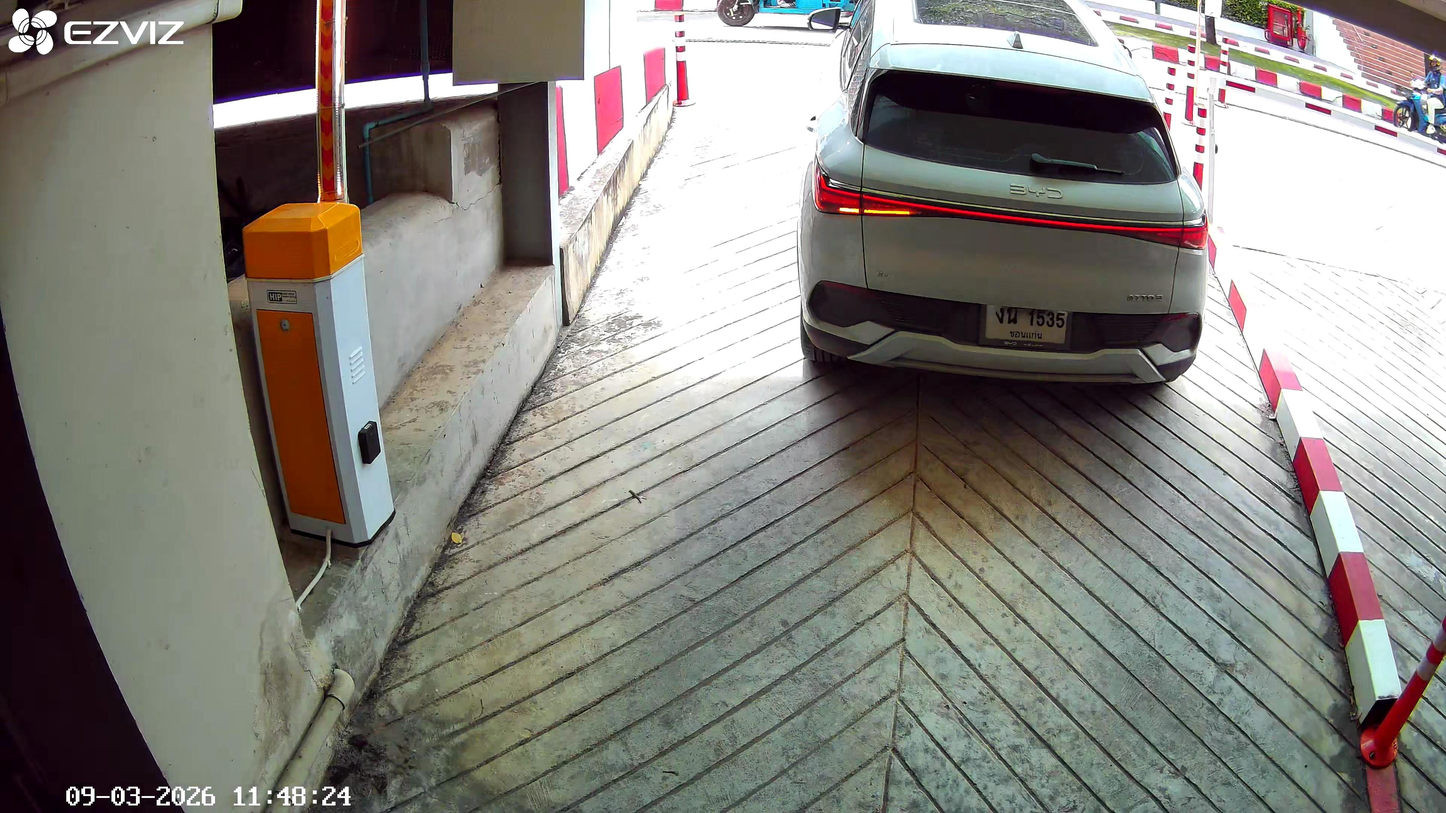car: (798, 0, 1216, 399)
license-plate: (981, 301, 1070, 347)
